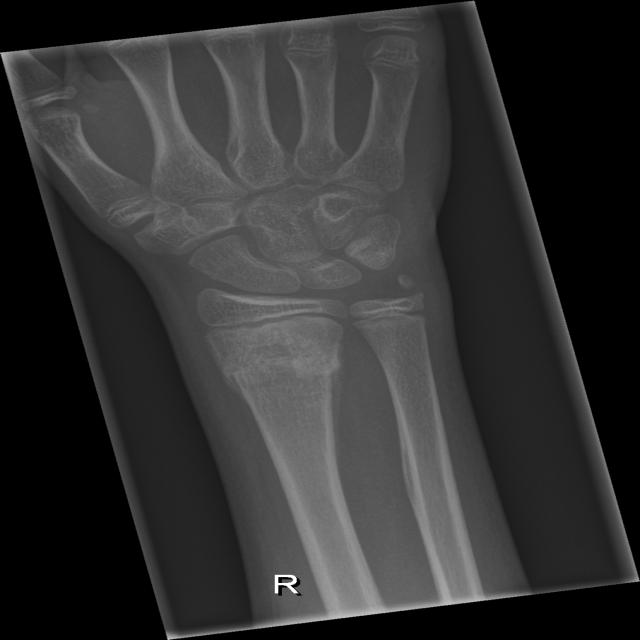radius fracture: (160, 340, 374, 414)
